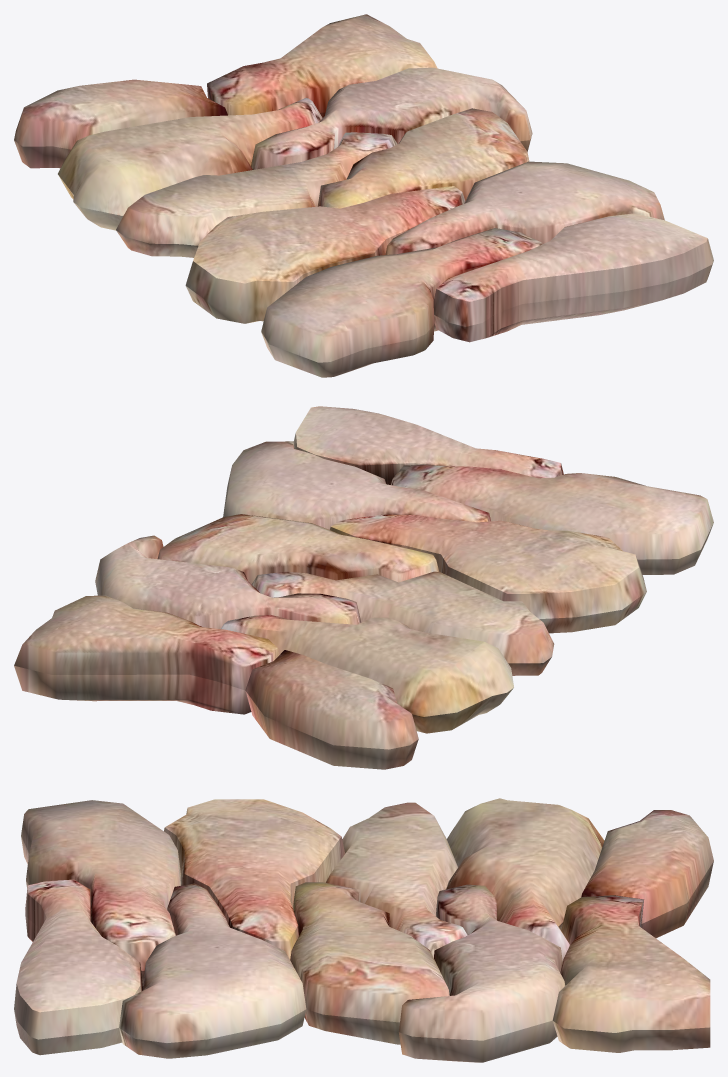
File: chicken_drums.dae
3 views of the same model, one above another, from view 1: azimuth 30°, elevation 25°; view 2: azimuth 150°, elevation 25°; view 3: azimuth 270°, elevation 25° (orthographic). The views are drawn at different scales.
Visible parts, largest first — view 1: Component_84; view 2: Component_84; view 3: Component_84.
Part boxes in pixels (x1=…): Component_84: x1=14, y1=14, x2=713, y2=377; Component_84: x1=14, y1=406, x2=713, y2=769; Component_84: x1=14, y1=798, x2=713, y2=1062.
Size of the model in its own units: 9.74 by 12.92 by 1.34.
1 material, 1 textured.
